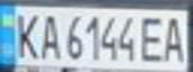1: (81, 11, 103, 61)
4: (115, 11, 142, 62), (100, 11, 121, 62)
6: (60, 10, 84, 61)
A: (160, 12, 190, 63), (36, 10, 63, 61)
E: (136, 12, 169, 63)
K: (9, 9, 42, 61)
